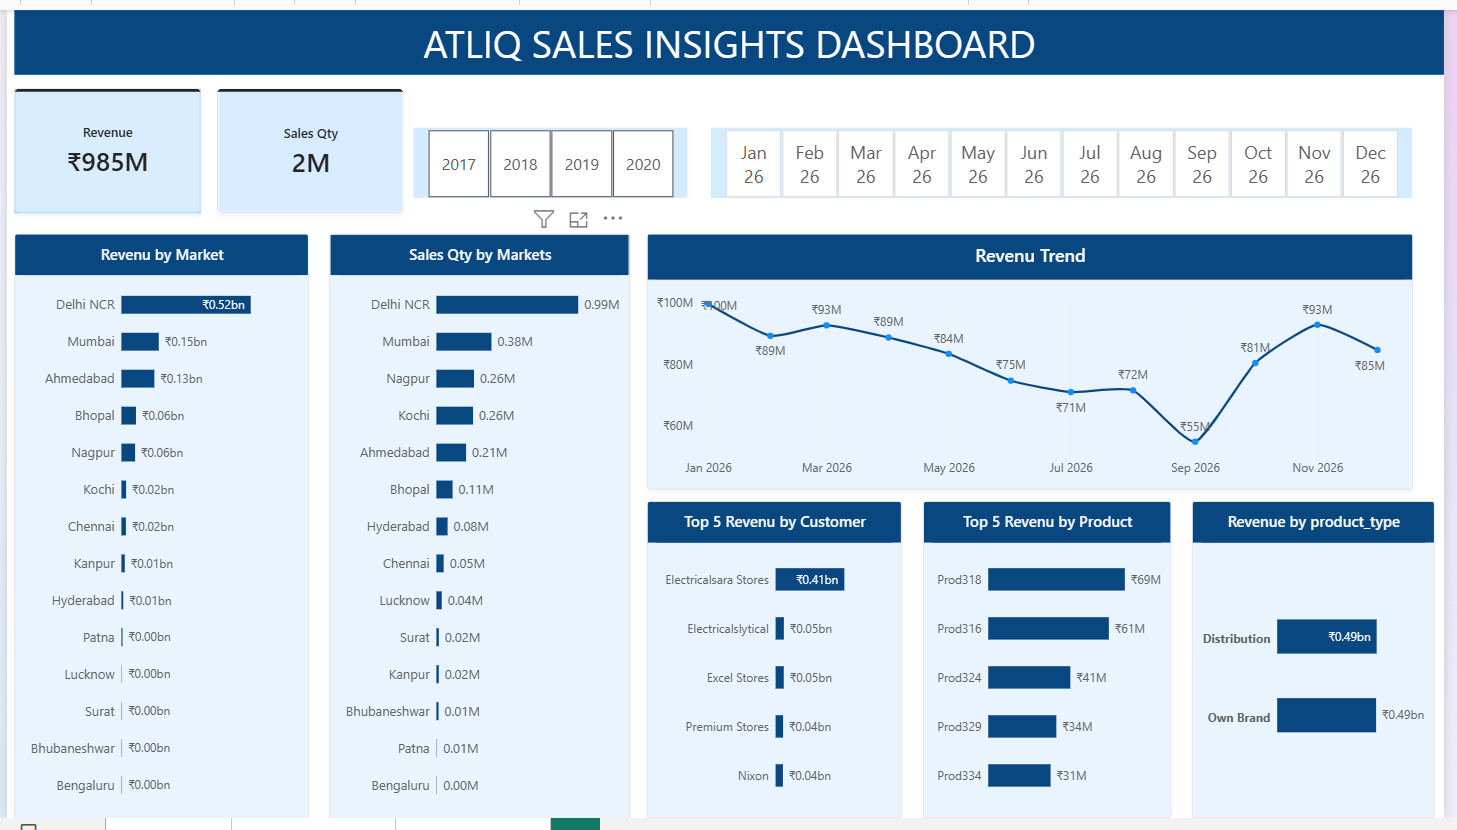

The page's visual inventory and layout, read from the dashboard file:
{"tool":"powerbi","page":{"name":"Key Insight","canvas":[1920,1080],"ordinal":0},"visuals":[{"type":"shape","box":[10.3,0,1910.1,86.4],"z":0},{"type":"cardVisual","fields":{"Data":["Measure.Revenu"]},"box":[10.3,105,249.1,166.7],"z":1000},{"type":"cardVisual","fields":{"Data":["Measure.Sales Qty"]},"box":[279.9,105,249.1,166.7],"z":2000},{"type":"slicer","fields":{"Values":["Sales date.year"]},"box":[543.4,156.4,366.4,94.7],"z":3000},{"type":"slicer","fields":{"Values":["Sales date.cy_date"]},"box":[940.7,156.4,936.5,94.7],"z":4000},{"type":"barChart","title":"Revenu by Market","fields":{"Category":["Sales market.markets_name"],"Y":["Measure.Revenu"]},"box":[10.3,298.5,393.1,782.2],"z":4001},{"type":"barChart","title":"Sales Qty by Markets","fields":{"Category":["Sales market.markets_name"],"Y":["Measure.Sales Qty"]},"box":[430.2,298.5,401.4,782.2],"z":4002},{"type":"lineChart","title":"Revenu Trend","fields":{"Category":["Sales date.cy_date.Variation.Date Hierarchy.Year","Sales date.cy_date.Variation.Date Hierarchy.Month"],"Y":["Measure.Revenu"]},"box":[854.2,298.5,1023,341.7],"z":4003},{"type":"barChart","title":"Top 5 Revenu by Customer","fields":{"Category":["Sales customer.custmer_name"],"Y":["Measure.Revenu"]},"box":[854.2,656.9,340.2,423.5],"z":4004},{"type":"barChart","title":"Top 5 Revenu by Product","fields":{"Category":["Sales product.product_code"],"Y":["Measure.Revenu"]},"box":[1223.3,656.9,331.2,423.5],"z":4005},{"type":"barChart","fields":{"Category":["Sales product.product_type"],"Y":["Measure.Revenu"]},"box":[1583.5,656.9,323.9,423.5],"z":4006}]}

Visuals, with their boxes in screenshot pixels (x1, y1, x2, y2), scaled from the page's 1920x1080 canvas onto the 1457x830 screenshot:
shape: 8 0 1456 66
cardVisual - Measure.Revenu: 8 81 197 209
cardVisual - Measure.Sales Qty: 212 81 401 209
slicer - Sales date.year: 412 120 690 193
slicer - Sales date.cy_date: 714 120 1425 193
"Revenu by Market" barChart: 8 229 306 829
"Sales Qty by Markets" barChart: 326 229 631 829
"Revenu Trend" lineChart: 648 229 1425 492
"Top 5 Revenu by Customer" barChart: 648 505 906 829
"Top 5 Revenu by Product" barChart: 928 505 1180 829
barChart - Sales product.product_type x Measure.Revenu: 1202 505 1447 829
